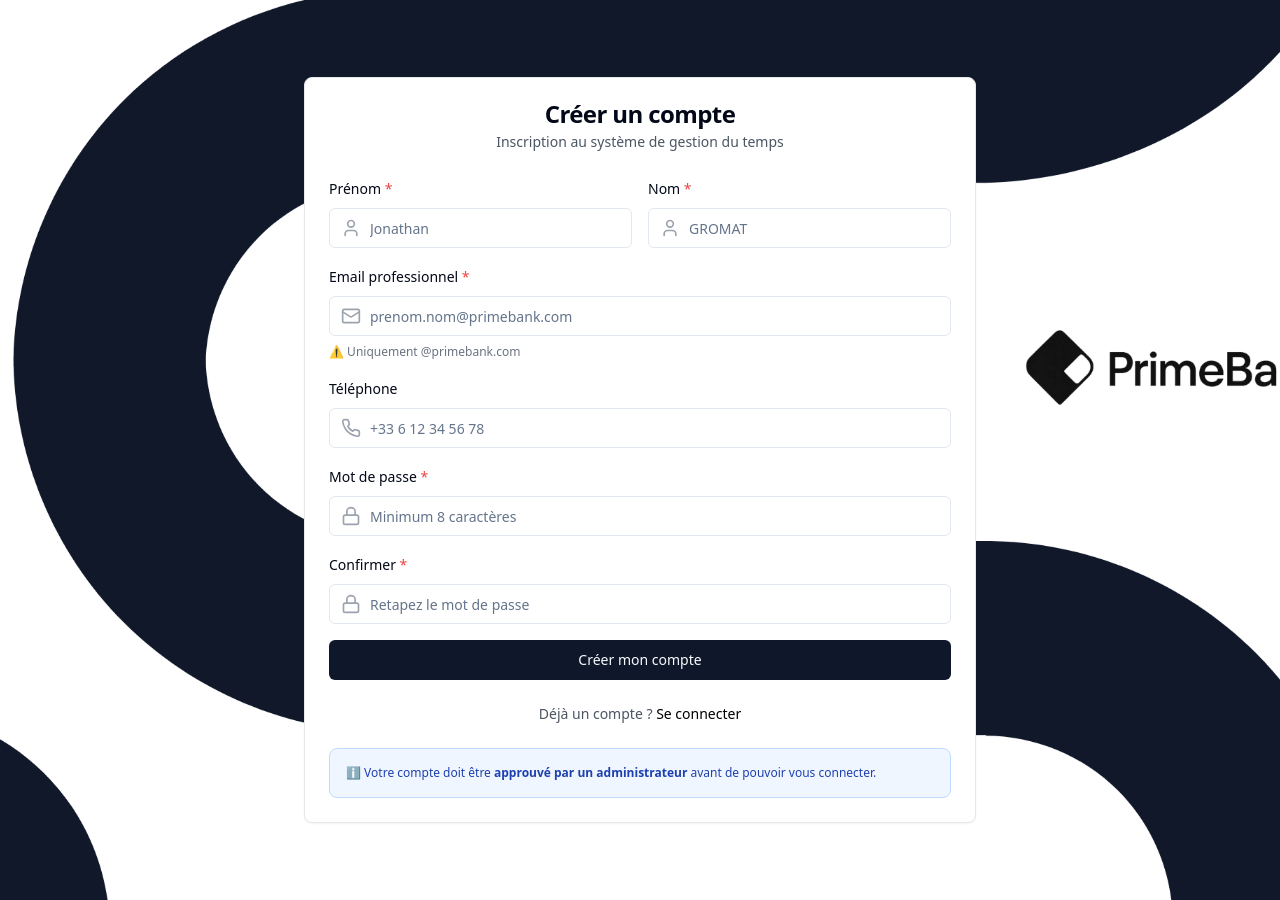
Scenario: RegisterPage › validates email domain
Use placeholder or specific label text to avoid ambiguity
In the field with placeholder "prenom.nom@primebank.com": (640, 316) [329,296,951,336], type "test@gmail.com"
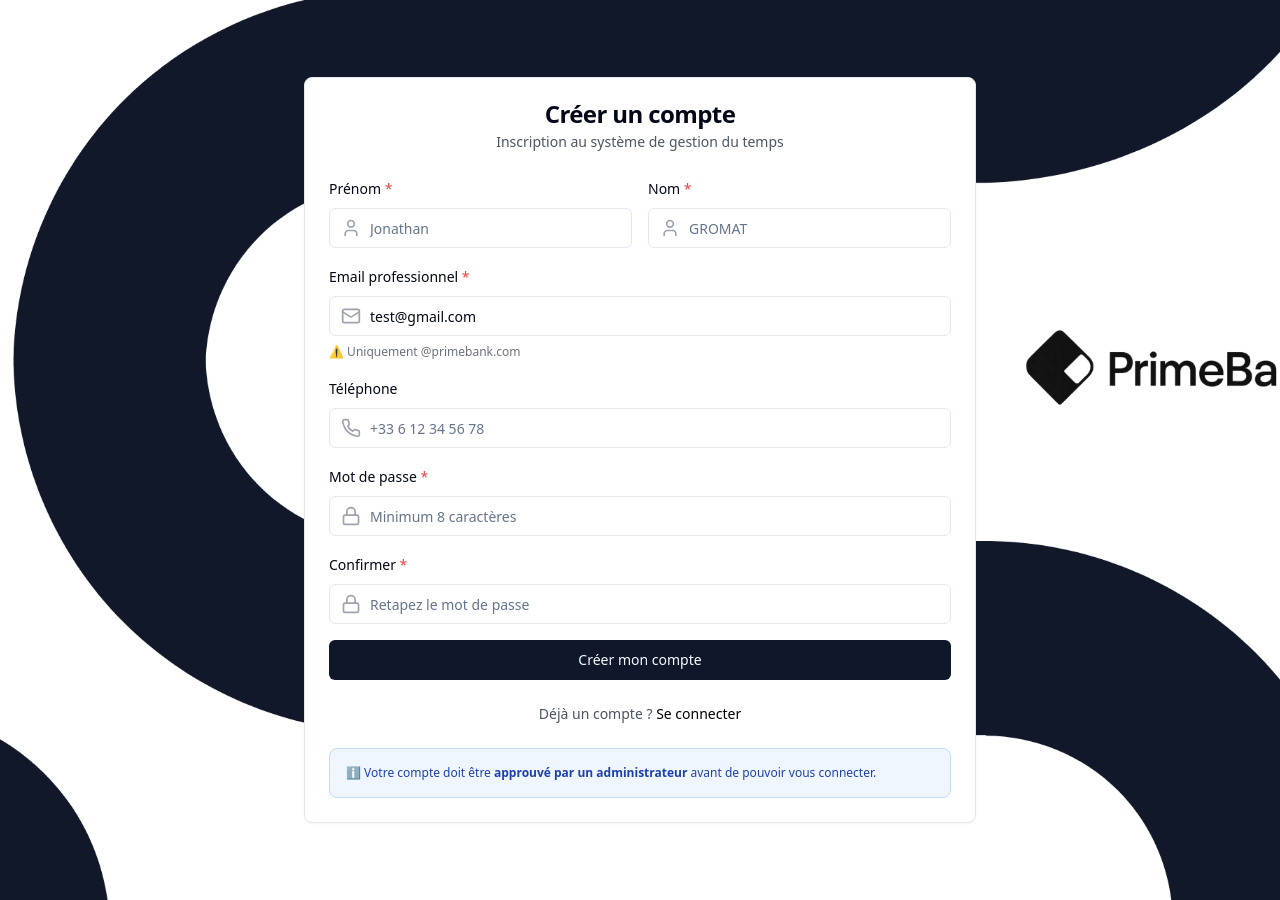
Submit the form with test id "register-form", box [329,176,951,680]
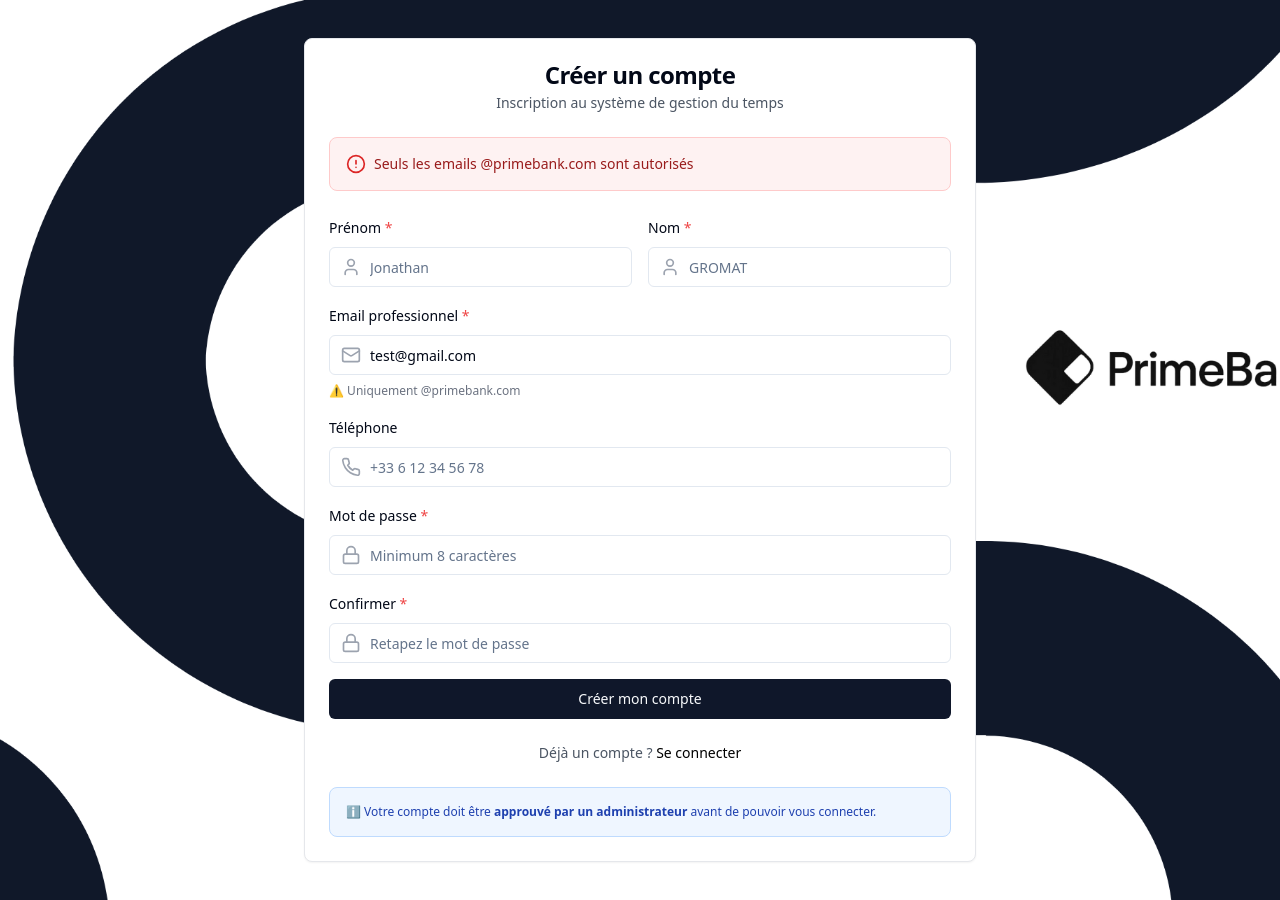
expect the text "Seuls les emails @primebank.com sont autorisés" is shown: met, box [374,154,694,174]
